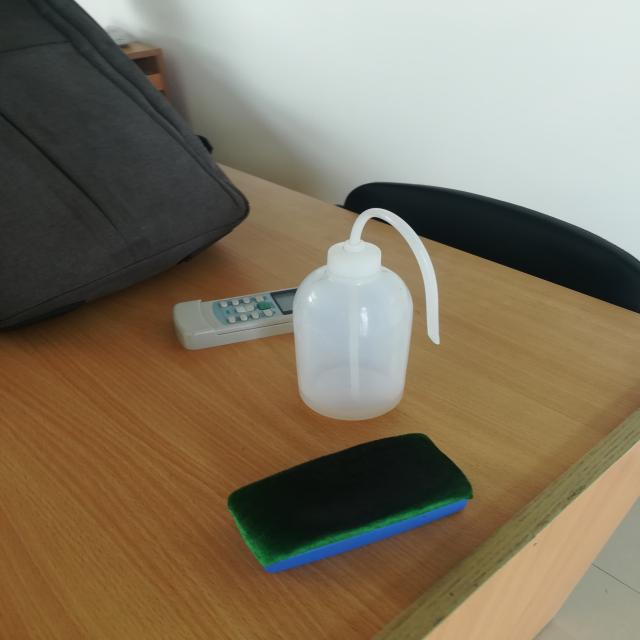Wash_Bottle: (261, 175, 476, 446)
